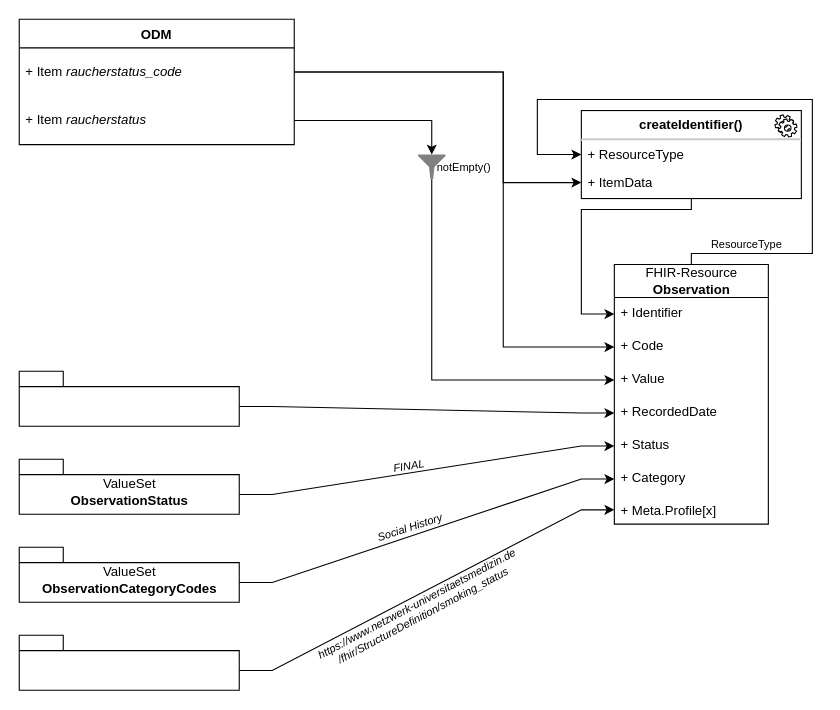
This 840x710 diagram has some shape labels left out. The centre of each missing label's shape, as x and y in pixels:
"Extension UnknownDateTime" goes at point (128, 398).
"GECCO Profiles" goes at point (128, 662).
